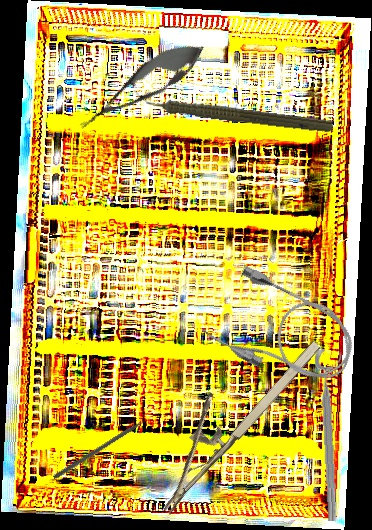Cannula: (198, 260, 367, 402)
Fixation Ring: (314, 348, 352, 522)
Handpiece: (129, 87, 335, 137)
Micro Scissor: (70, 29, 213, 143)
Needle Holder: (128, 313, 327, 516)
Pusher: (52, 411, 159, 481)
